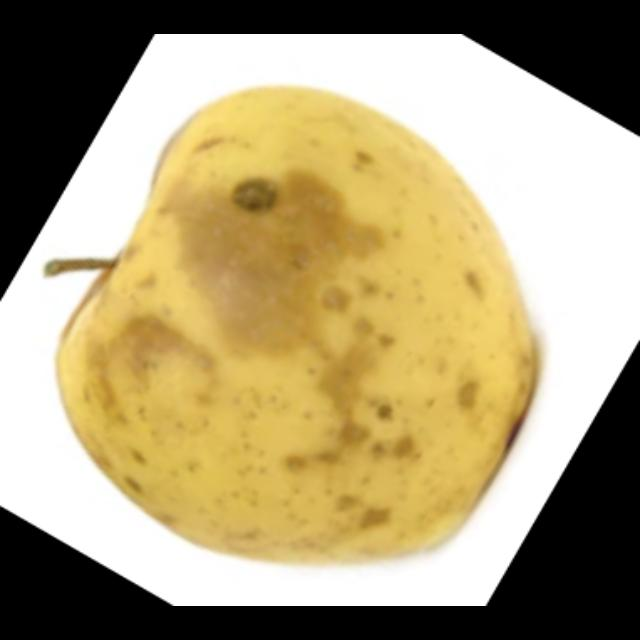Apel Tidak Segar: (51, 90, 537, 566)
